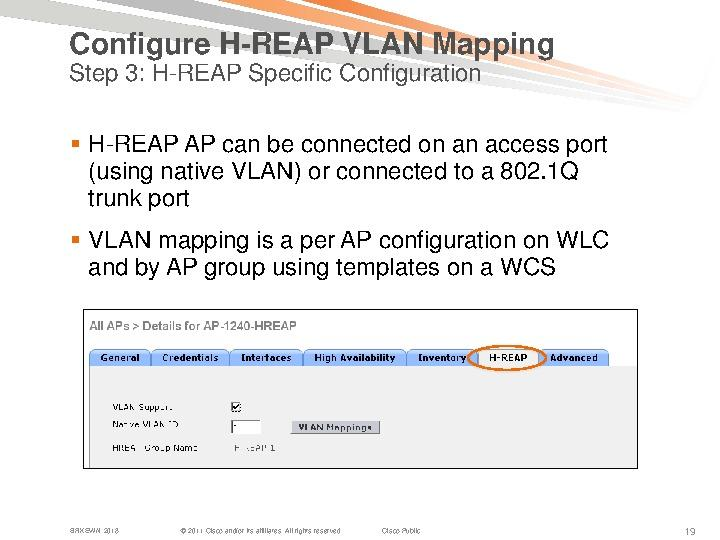paragraph: (47, 98, 663, 297)
title: (69, 24, 562, 64)
